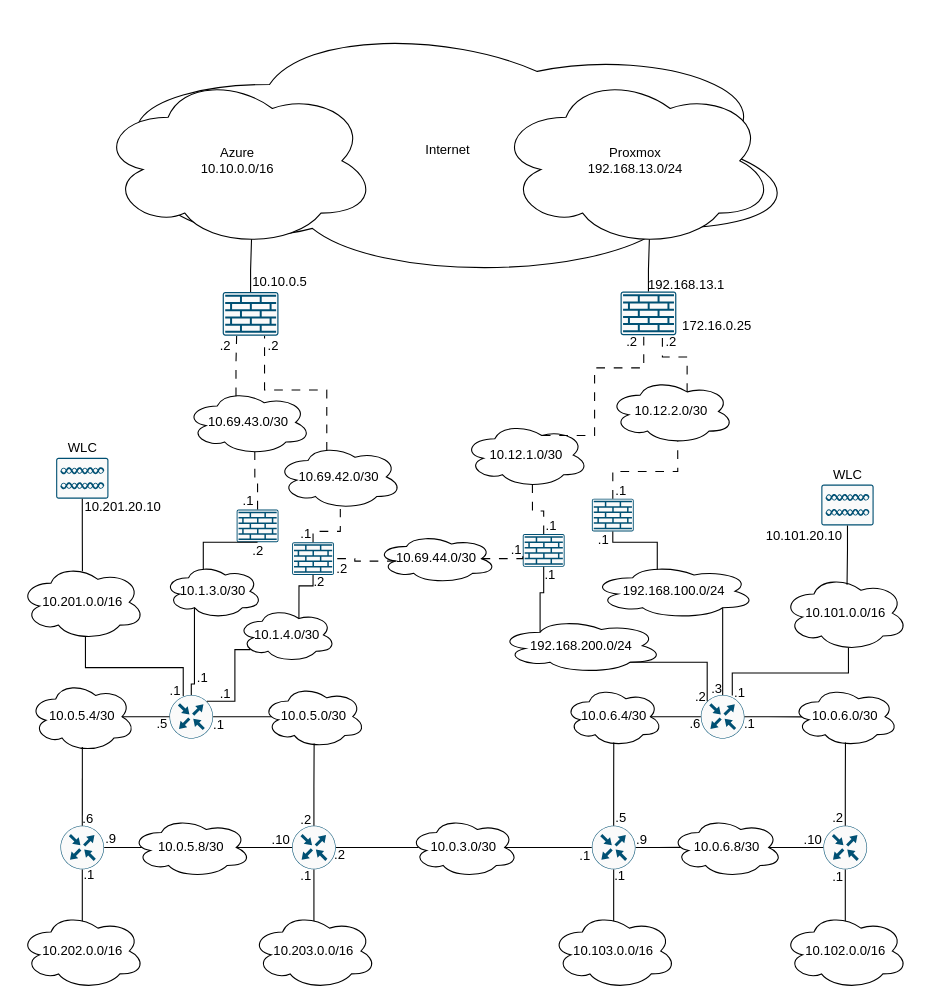
Some shapes in this 927 by 1008 pixel diagram are drawn without their labels. The centre of each missing label's shape, as x and y in pixels:
"Deventer" belongs at (722,716).
"Epe" belongs at (844,847).
"Ermelo" belongs at (613,847).
"Harderwijk" belongs at (190,716).
"Nunspeet" belongs at (81,847).
"Putten" belongs at (313,847).
